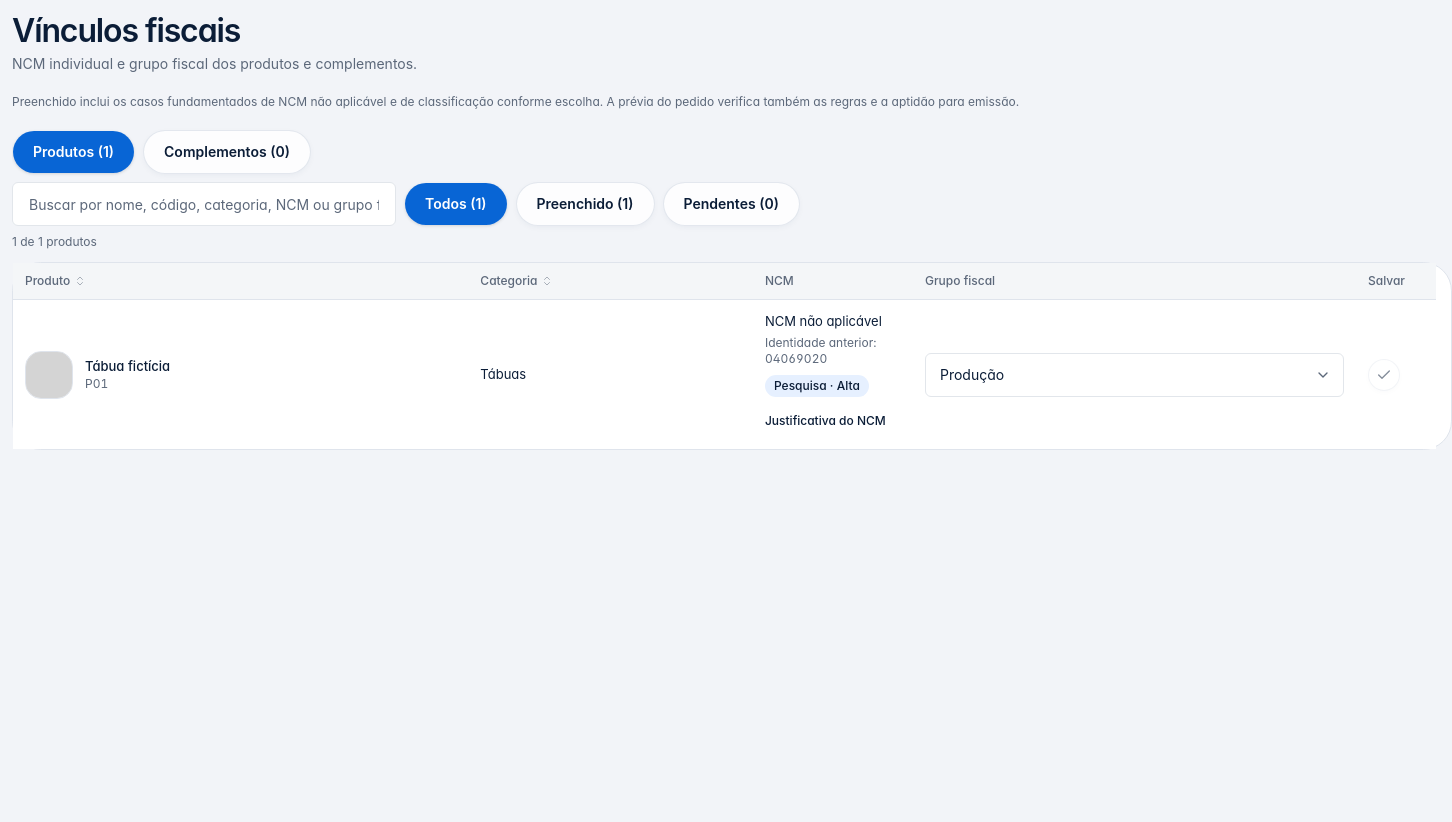
Scenario: identifica configuração sem NCM fiscal e preserva o código anterior como identidade
expect the text "NCM não aplicável" is shown: met, box [765,313,882,329]
expect the text "Identidade anterior: 04069020" is shown: met, box [765,335,876,366]
Click the button "Preenchido (1)" at (585, 204), box [516,182,654,226]
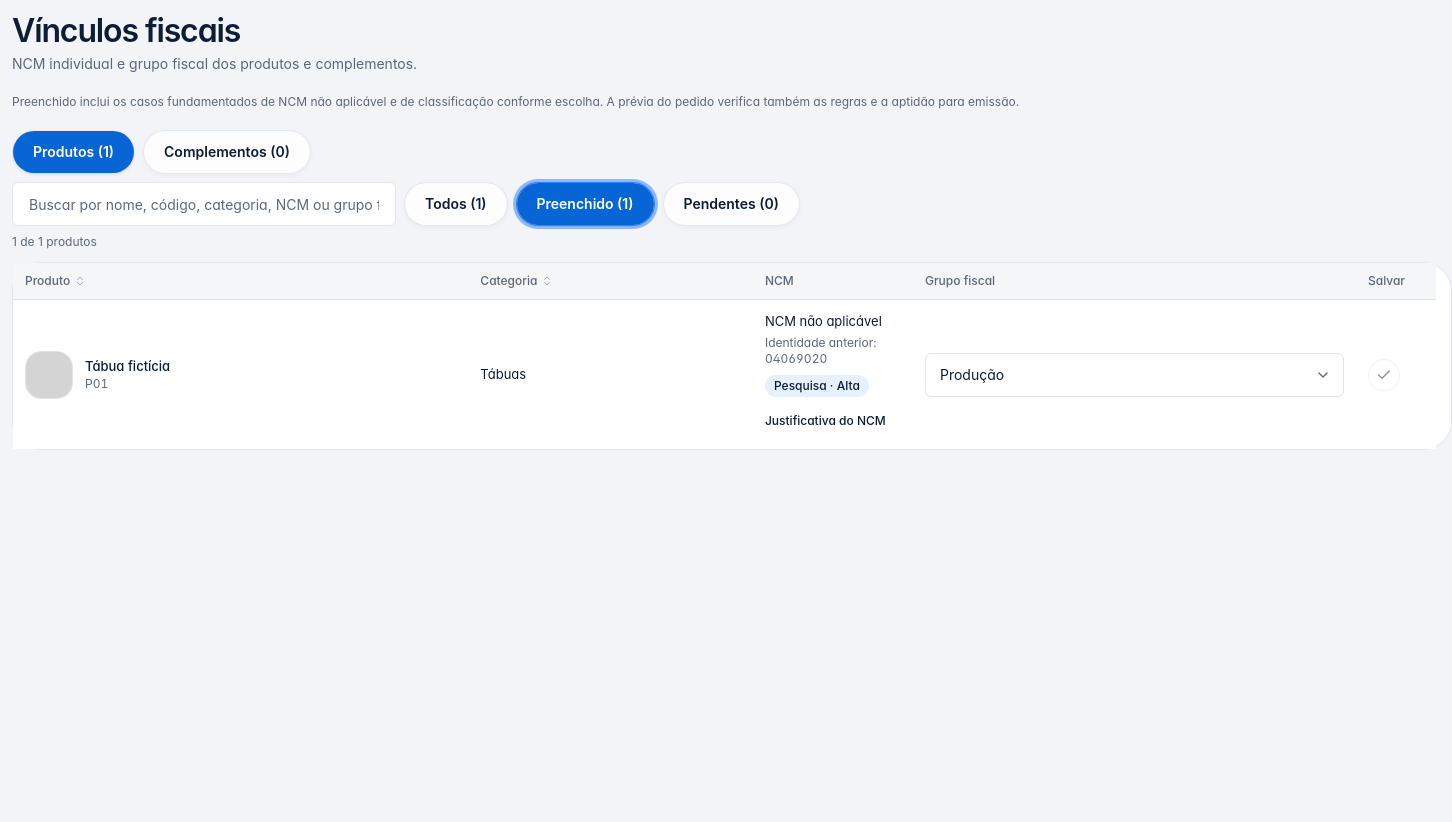
Click the heading "Justificativa do NCM" at (825, 420), box [765,413,886,428]
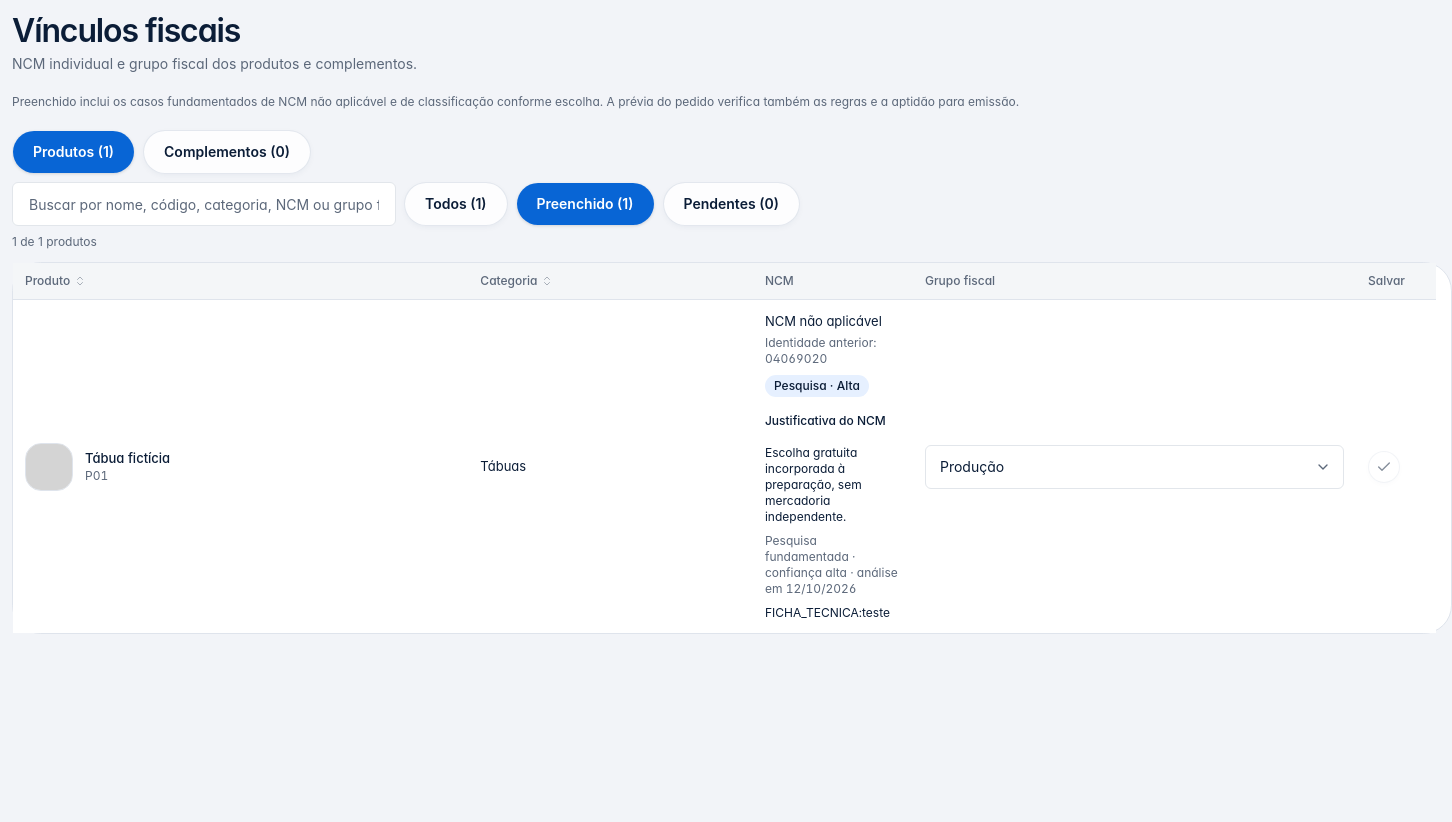
expect the text "Escolha gratuita incorporada à preparação, sem mercadoria independente." is shown: met, box [765,445,862,524]
expect the text "Pesquisa fundamentada · confiança alta · análise em 12/10/2026" is shown: met, box [765,533,901,597]
